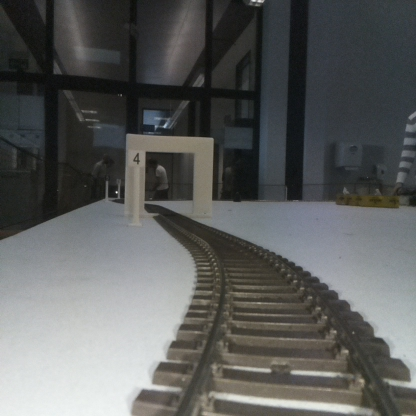white-info-4: (129, 151, 145, 224)
